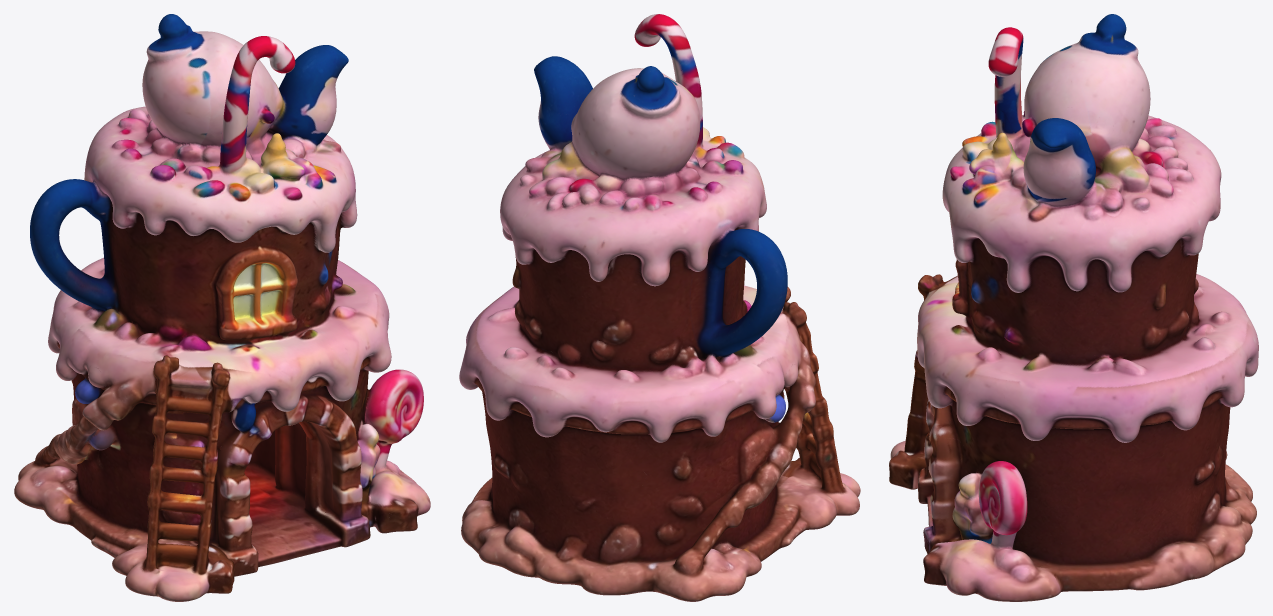
The model's file is Meshy_AI_Candy_Cottage_Mughouse_20261104_texture.fbx.
The picture shows the model from 3 angles, left to right: view 1: azimuth 30°, elevation 25°; view 2: azimuth 150°, elevation 25°; view 3: azimuth 270°, elevation 25°; orthographic projection. The views are drawn at different scales.
Visible parts, largest first — view 1: Mesh_0; view 2: Mesh_0; view 3: Mesh_0.
Boxes of the visible parts, <box> form: Mesh_0: <box>14,14,430,601</box>; Mesh_0: <box>459,14,860,601</box>; Mesh_0: <box>889,14,1258,601</box>.
Size of the model in its own units: 137 by 190 by 128.
Materials: 1 (1 with a texture image).
